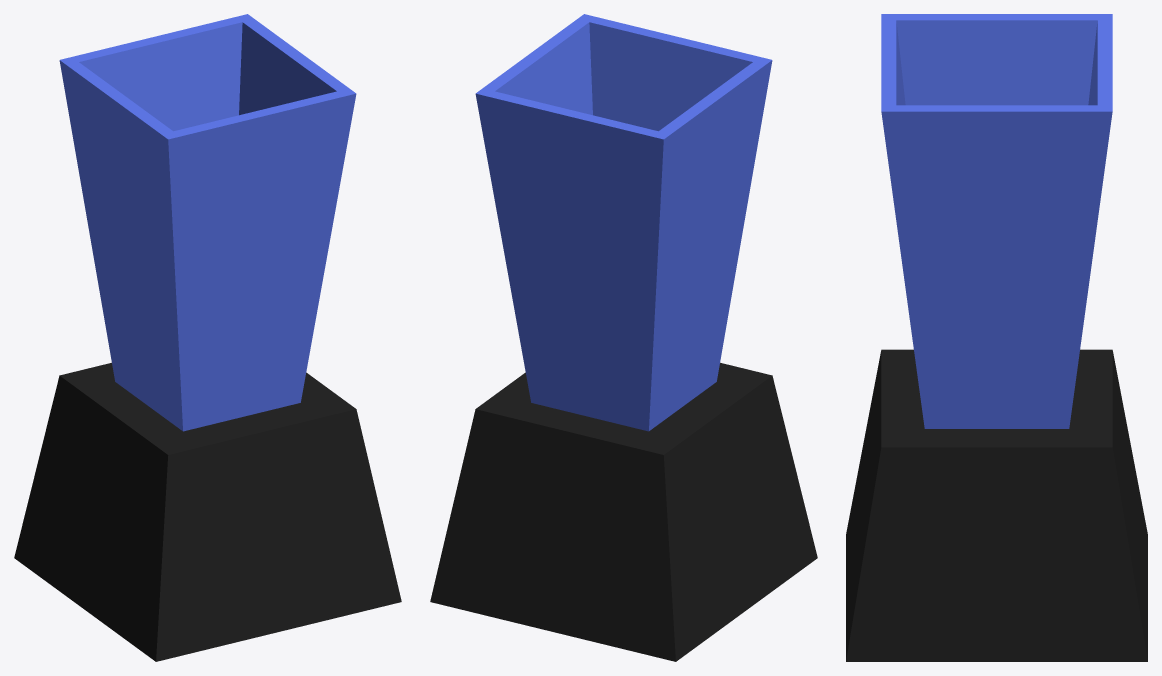
File: House_Kitchen_Goodies_blender.FBX
3 renders of one model, left to right at view 1: azimuth 30°, elevation 25°; view 2: azimuth 150°, elevation 25°; view 3: azimuth 270°, elevation 25°, orthographic. The views are drawn at different scales.
Parts seen in each view (by area): view 1: House_Kitchen_Goodies_blender; view 2: House_Kitchen_Goodies_blender; view 3: House_Kitchen_Goodies_blender.
Boxes of the visible parts, x1,y1,x2,y2 form: House_Kitchen_Goodies_blender: (14, 14, 401, 661); House_Kitchen_Goodies_blender: (430, 14, 817, 661); House_Kitchen_Goodies_blender: (846, 14, 1147, 661).
Bounding box in the file's own units: 37.2 × 72.79 × 37.2.
